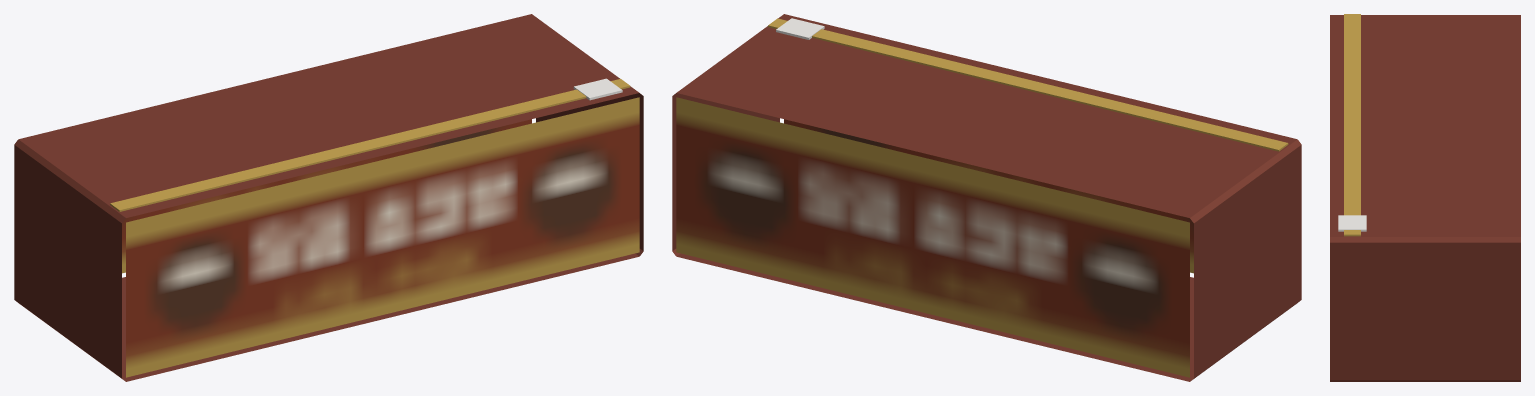
File: SC_Prod_SnackBox_Choco.gltf
3 views of the same model, side by side, from view 1: azimuth 30°, elevation 25°; view 2: azimuth 150°, elevation 25°; view 3: azimuth 270°, elevation 25° (orthographic). The views are drawn at different scales.
Parts seen in each view (by area): view 1: SC_Prod_SnackBox_Choco; view 2: SC_Prod_SnackBox_Choco; view 3: SC_Prod_SnackBox_Choco.
Part boxes in pixels (x1,y1,x2,y2): SC_Prod_SnackBox_Choco: [14, 14, 643, 381]; SC_Prod_SnackBox_Choco: [672, 14, 1301, 381]; SC_Prod_SnackBox_Choco: [1330, 14, 1520, 381].
Size of the model in its own units: 0.19 by 0.0578 by 0.068.
2 materials, 2 textured.
